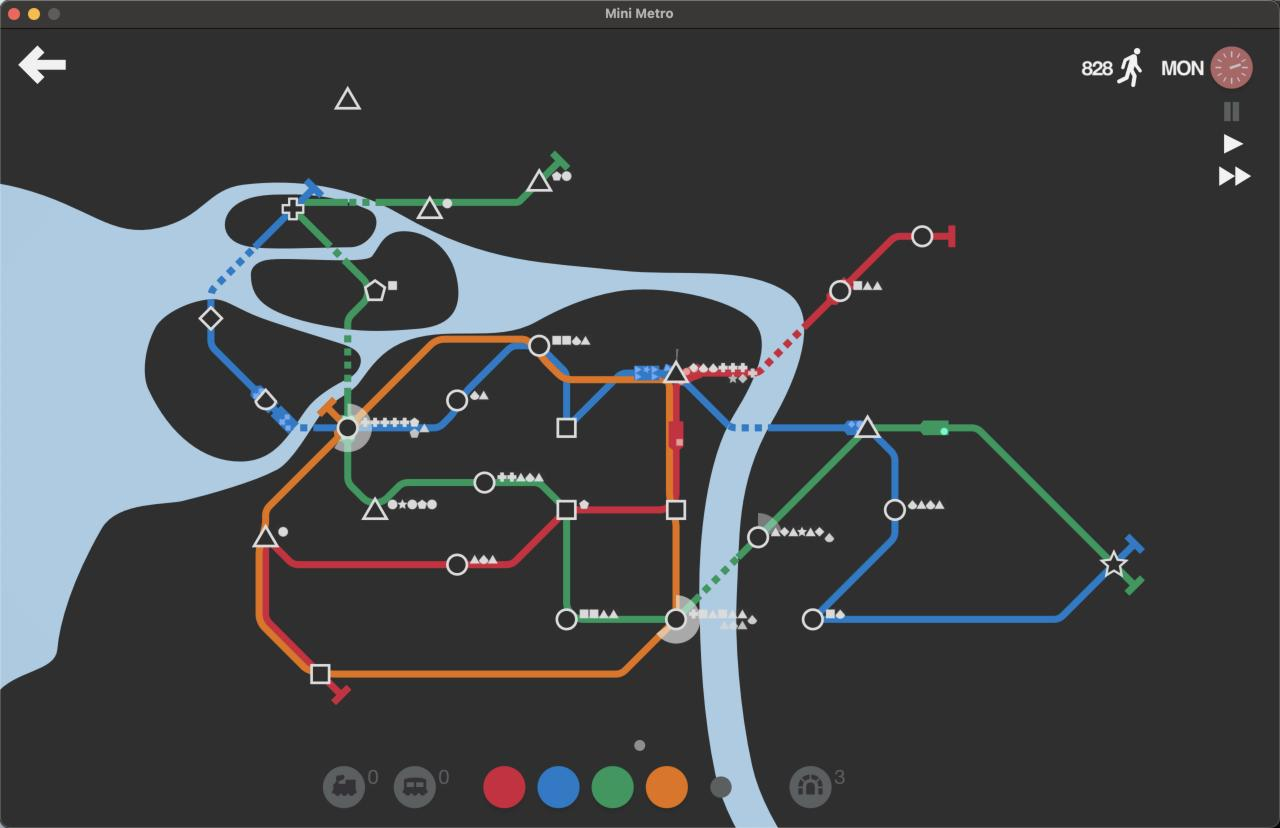CIRCLE: (883, 498, 907, 522), (828, 279, 852, 303), (664, 608, 688, 632), (336, 416, 360, 440), (747, 525, 770, 549), (801, 608, 824, 632), (555, 607, 578, 631), (446, 553, 469, 577), (911, 225, 934, 248), (446, 389, 468, 412), (474, 471, 496, 494), (529, 334, 551, 356)
CROSS: (281, 197, 303, 220)
GEM: (198, 303, 224, 330)
PENTAGON: (365, 279, 387, 301)
SQUARE: (556, 499, 579, 520), (666, 499, 687, 521), (556, 417, 577, 438), (309, 663, 330, 684)
STAR: (1099, 550, 1130, 578)
TRIANGLE: (853, 414, 883, 439), (525, 166, 552, 193), (416, 194, 444, 220), (664, 356, 690, 384), (361, 495, 389, 521), (334, 85, 362, 111), (252, 525, 280, 548)
WEDGE: (253, 387, 278, 411)
